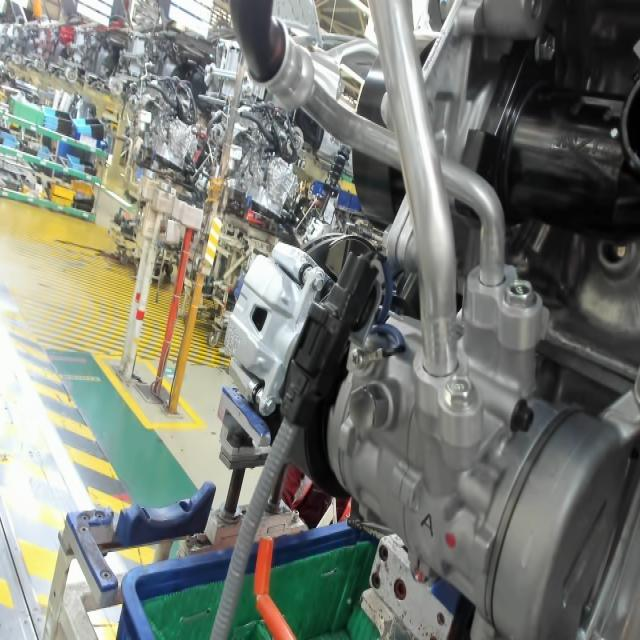Compressor-A: (415, 505, 441, 545)
